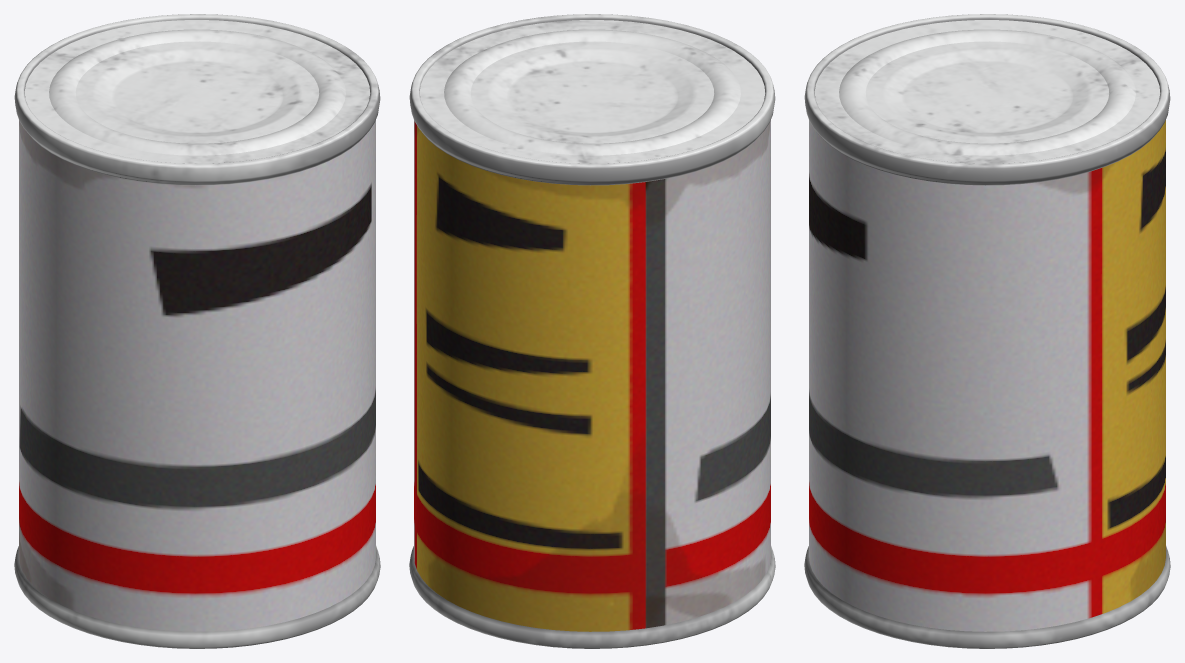
The model's file is SM_FoodCan08.fbx.
3 views of the same model, side by side, from view 1: azimuth 30°, elevation 25°; view 2: azimuth 150°, elevation 25°; view 3: azimuth 270°, elevation 25° (orthographic).
Visible parts, largest first — view 1: SM_FoodCan08_LOD0; view 2: SM_FoodCan08_LOD0; view 3: SM_FoodCan08_LOD0.
Boxes of the visible parts, x1=… form: SM_FoodCan08_LOD0: x1=14, y1=14, x2=380, y2=648; SM_FoodCan08_LOD0: x1=409, y1=14, x2=775, y2=648; SM_FoodCan08_LOD0: x1=804, y1=14, x2=1170, y2=648.
Bounding box in the file's own units: 10.33 × 10.33 × 15.16.
Materials: 1 (1 with a texture image).
